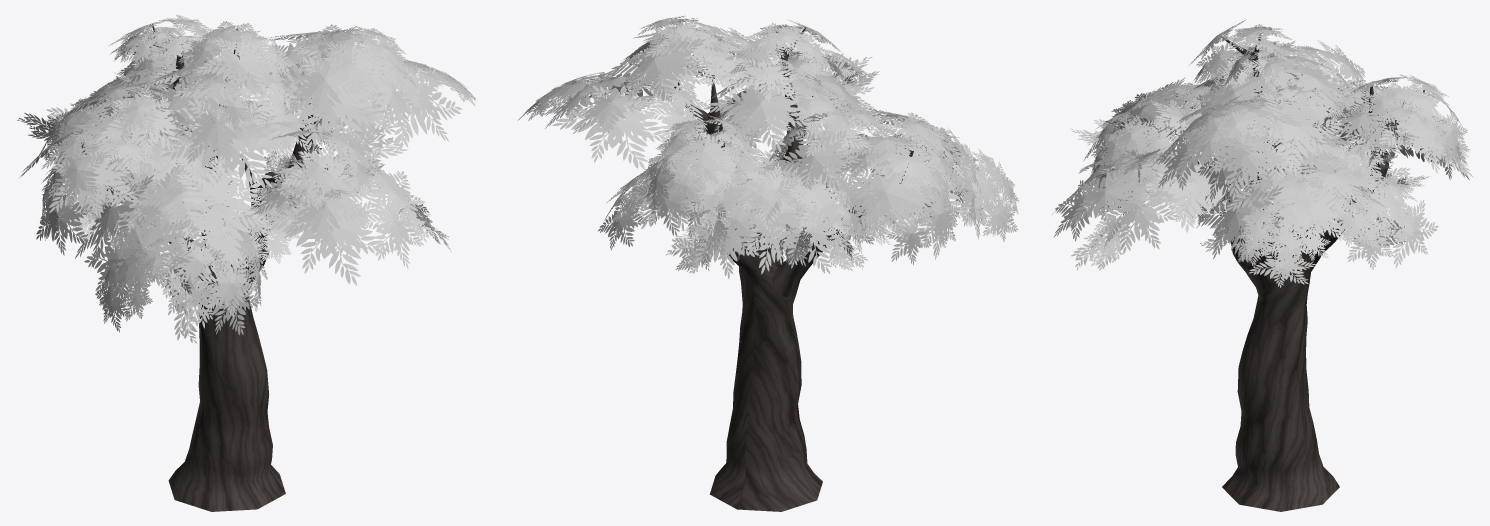
Rendered from tree_01.fbx.
3 views of the same model, side by side, from view 1: azimuth 30°, elevation 25°; view 2: azimuth 150°, elevation 25°; view 3: azimuth 270°, elevation 25° (orthographic). The views are drawn at different scales.
Parts seen in each view (by area): view 1: Tree_01_LOD0; view 2: Tree_01_LOD0; view 3: Tree_01_LOD0.
Boxes of the visible parts, x1,y1,x2,y2 form: Tree_01_LOD0: [17, 14, 477, 511]; Tree_01_LOD0: [518, 15, 1018, 511]; Tree_01_LOD0: [1052, 19, 1473, 511].
Size of what is drawn, in the model's own units: 25.26 by 25.22 by 21.33.
